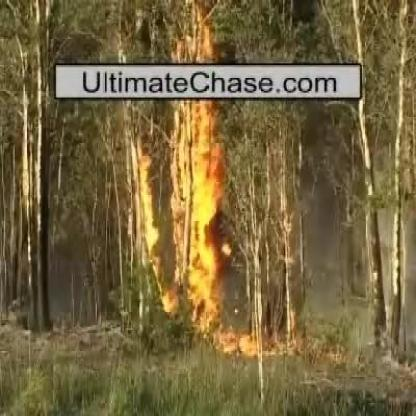-: (306, 210, 337, 282)
foggia-v2-map80-epoch100 - v1 4323: (177, 102, 215, 315)
